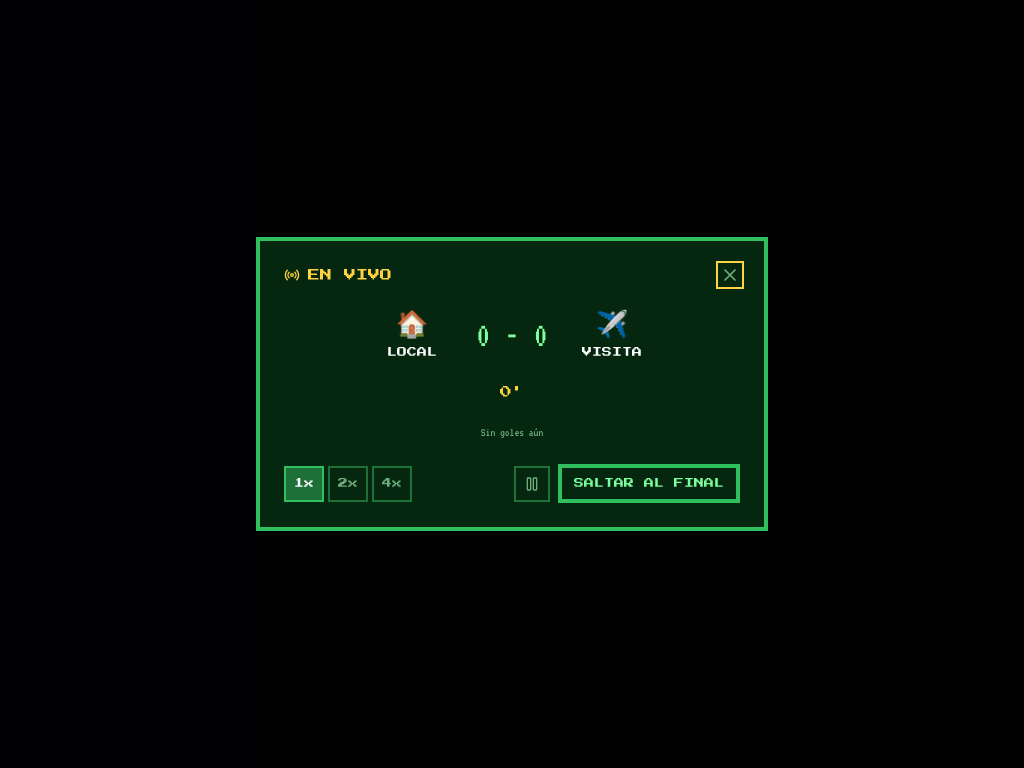
Scenario: LiveMatchModal › simula y reproduce: "Saltar al final" muestra el marcador final
Click the button "Saltar al final" at (649, 484), box [558,464,740,503]
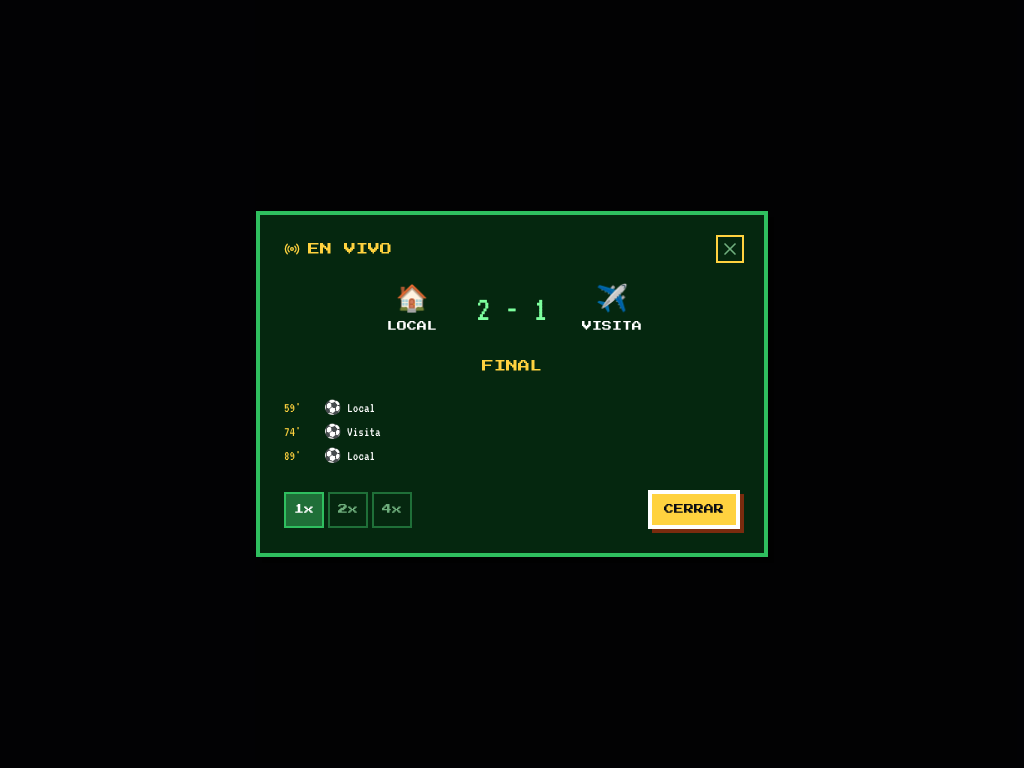
Now the text "2 - 1" is shown, box [476,288,548,328]
Now the text "FINAL" is shown, box [482,360,542,372]
